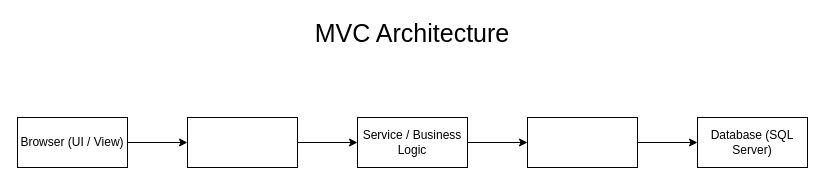
This 825x185 diagram has some shape labels left out. The centre of each missing label's shape, as x and y in pixels:
Controller: (242,142)
Data Access Layer (Repository): (582,142)
